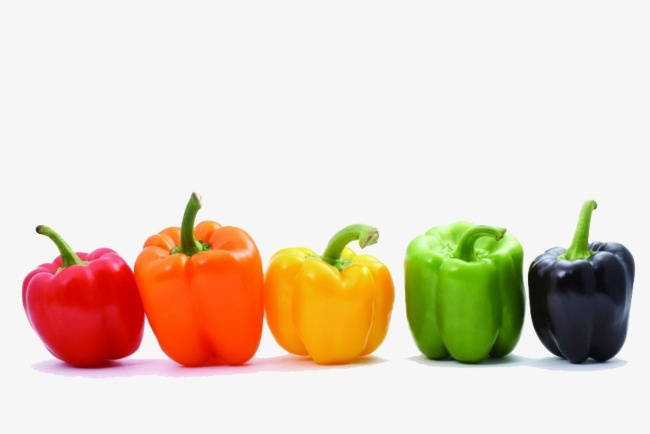fruit: (135, 218, 265, 368), (405, 223, 527, 365), (264, 245, 396, 368), (22, 247, 145, 370), (529, 239, 637, 366)
pedicle: (445, 241, 487, 259), (171, 241, 215, 254), (317, 255, 352, 269), (557, 250, 594, 263)
